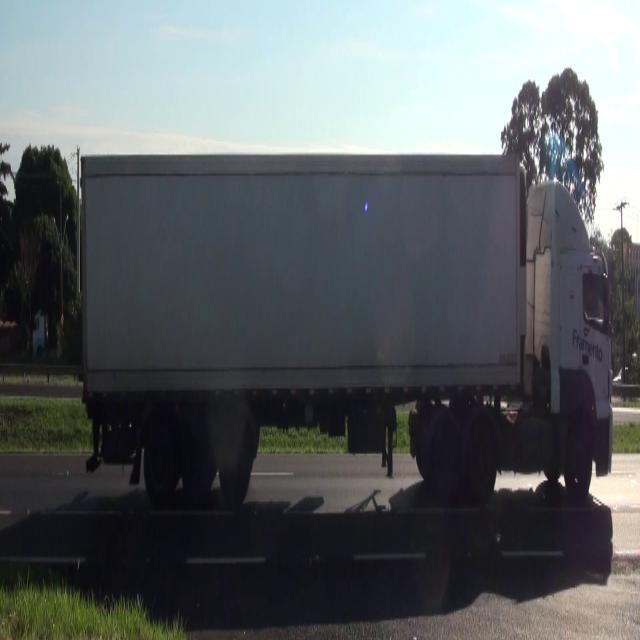-axle: (218, 416, 256, 501), (429, 417, 463, 504), (143, 418, 178, 500), (182, 412, 214, 494), (466, 424, 497, 499), (566, 420, 595, 494)
